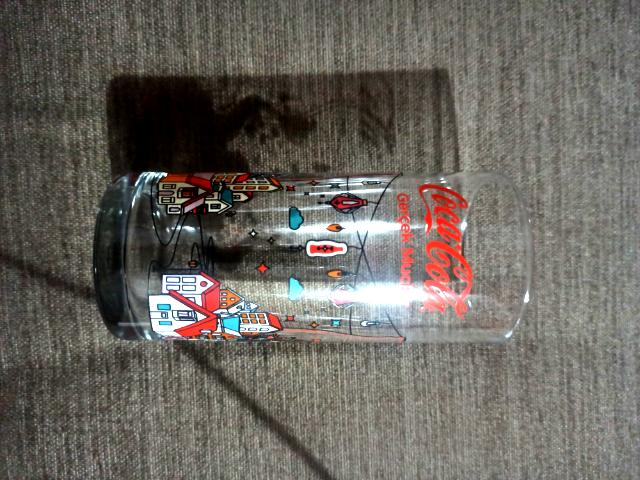Cup: (95, 173, 532, 341)
